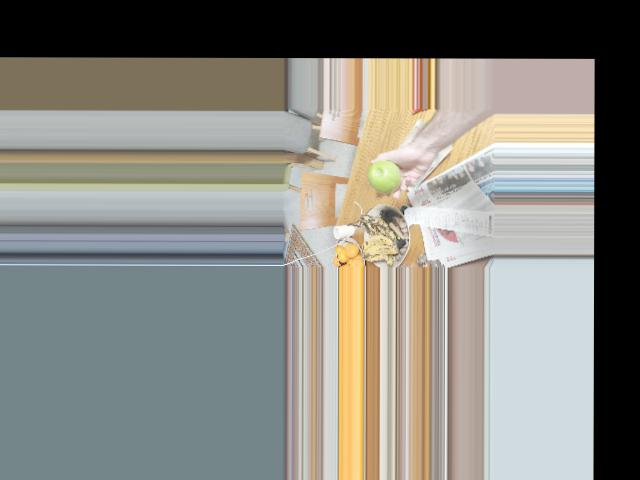apple: (366, 160, 403, 195)
